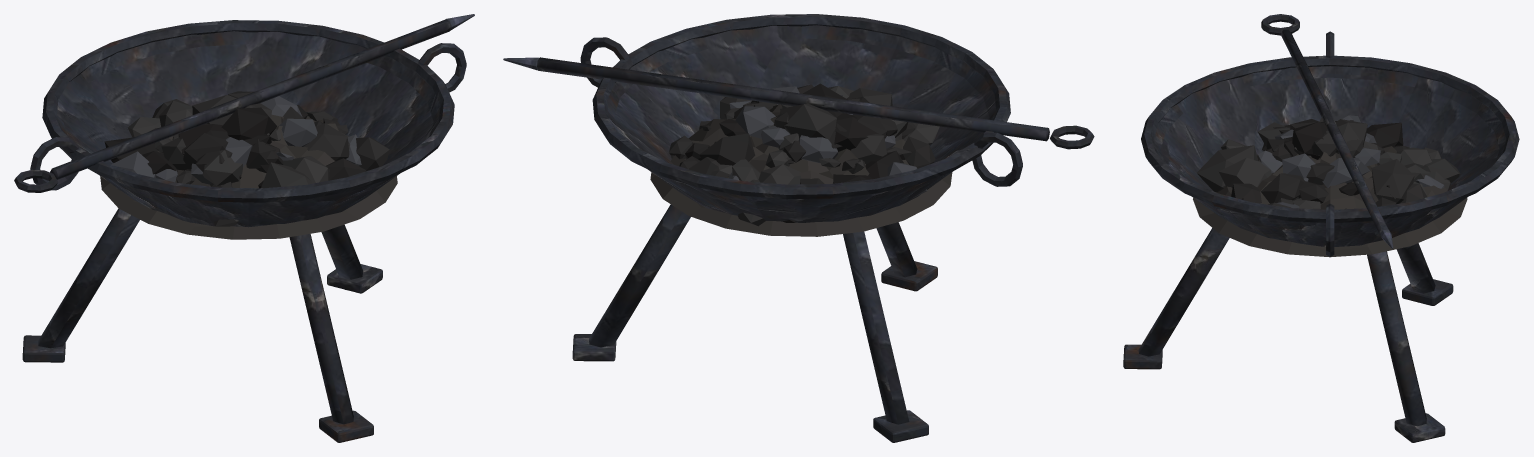
File: ef_ember_pan.glb
3 renders of one model, left to right at view 1: azimuth 30°, elevation 25°; view 2: azimuth 150°, elevation 25°; view 3: azimuth 270°, elevation 25°, orthographic. The views are drawn at different scales.
Parts seen in each view (by area): view 1: model; view 2: model; view 3: model.
Part boxes in pixels (<box>): model: <box>14,14,474,442</box>; model: <box>503,14,1094,442</box>; model: <box>1123,14,1519,442</box>.
Size of the model in its own units: 0.9965 by 0.4979 by 0.7196.
Materials: 9 (2 with a texture image).
